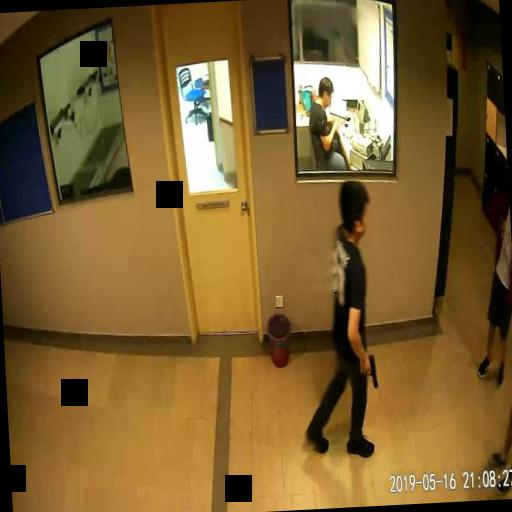Handgun: (360, 352, 376, 389)
